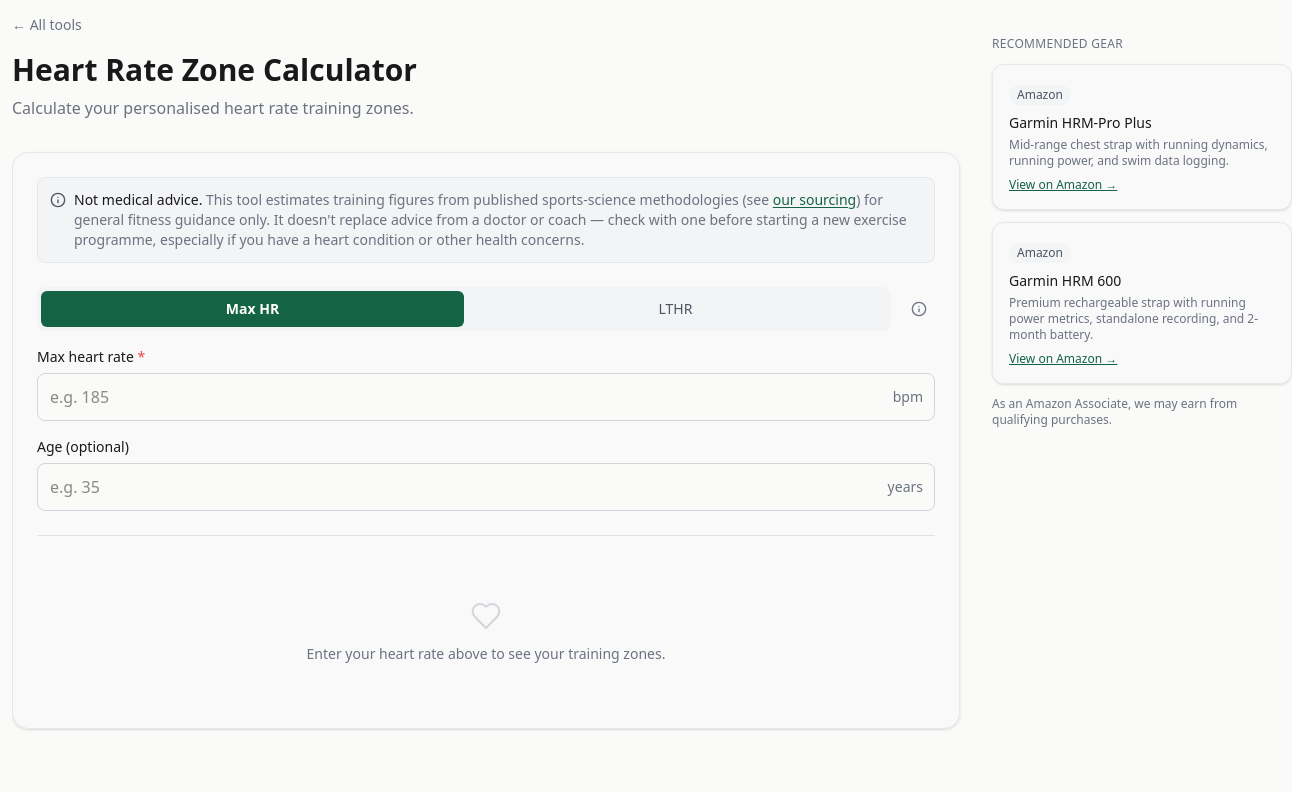
Test: HrZones page › switches input label to LTHR when LTHR tab is selected
The image size is (1292, 792).
Click the tab "LTHR": (676, 309) 464,291 -> 887,327
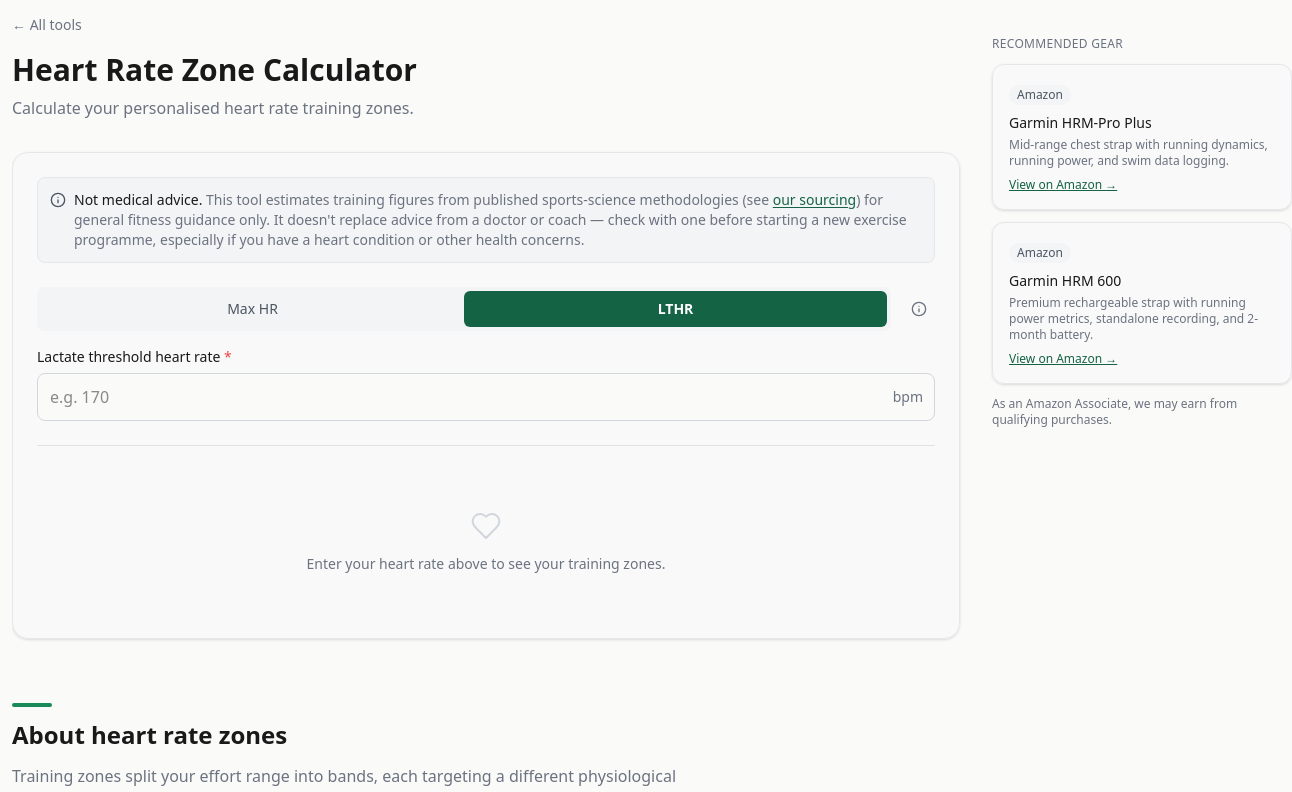
Now the number field labelled "Lactate threshold heart rate *" is shown, box 37,373 -> 935,421
